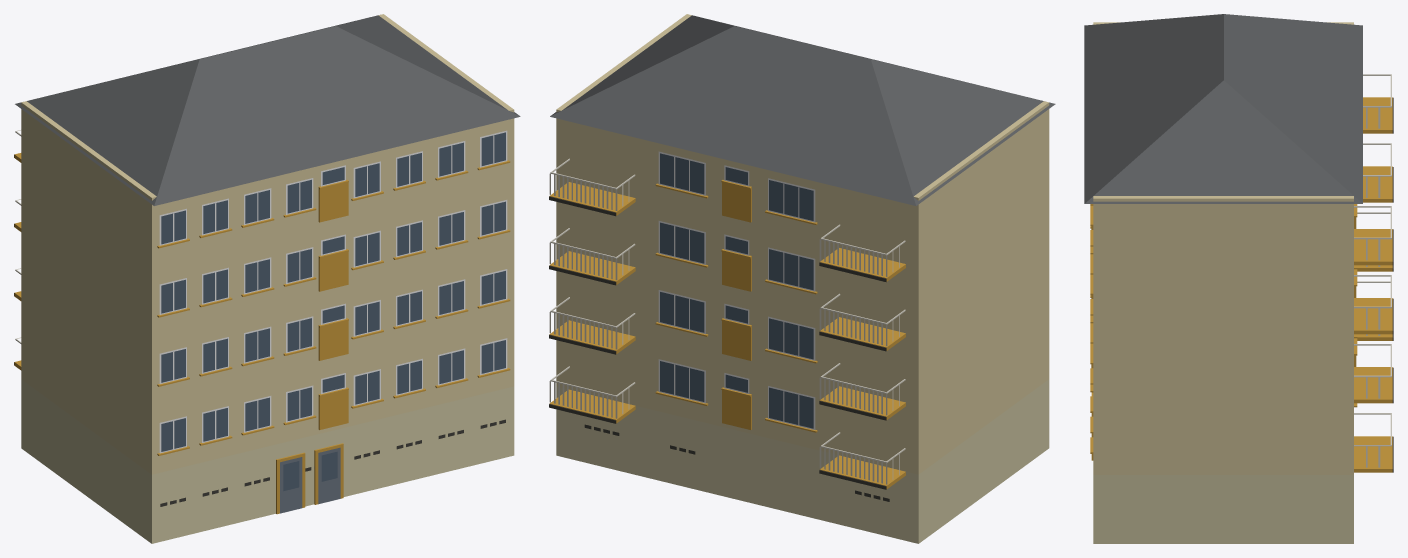
Rendered from nw-peach-render-entrance-front__ochre-yellow__5__hip__long__solid.glb.
The picture shows the model from 3 angles, left to right: view 1: azimuth 30°, elevation 25°; view 2: azimuth 150°, elevation 25°; view 3: azimuth 270°, elevation 25°; orthographic projection.
Parts seen in each view (by area): view 1: nw-peach-render-entrance-front__ochre-yellow__5__hip__long__; view 2: nw-peach-render-entrance-front__ochre-yellow__5__hip__long__; view 3: nw-peach-render-entrance-front__ochre-yellow__5__hip__long__.
Boxes of the visible parts, box(x1,y1,x2,y2) form: nw-peach-render-entrance-front__ochre-yellow__5__hip__long__: box(14, 14, 520, 543); nw-peach-render-entrance-front__ochre-yellow__5__hip__long__: box(549, 14, 1055, 543); nw-peach-render-entrance-front__ochre-yellow__5__hip__long__: box(1084, 14, 1393, 543).
Size of the model in its own units: 16.43 by 17.53 by 12.01.
